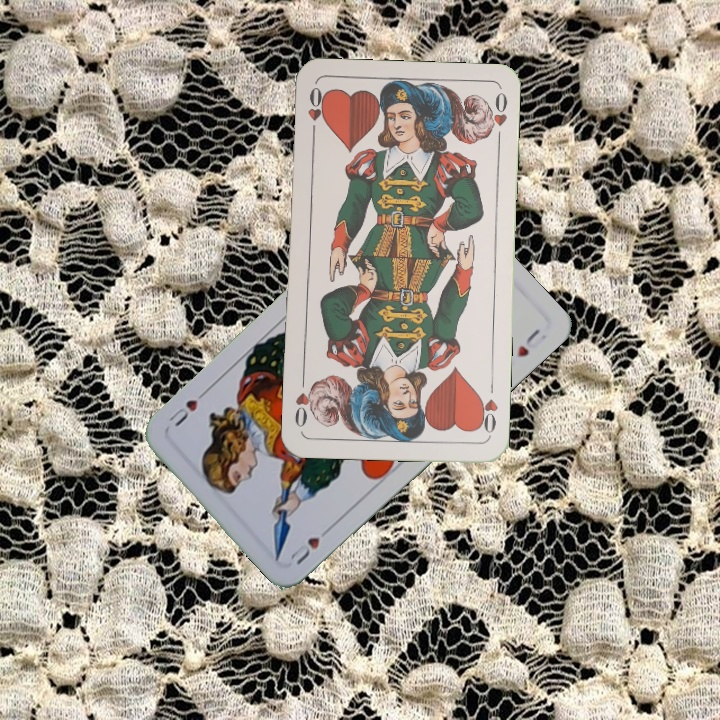HO: (474, 378, 501, 438), (303, 83, 326, 142)
HU: (286, 522, 333, 567)
